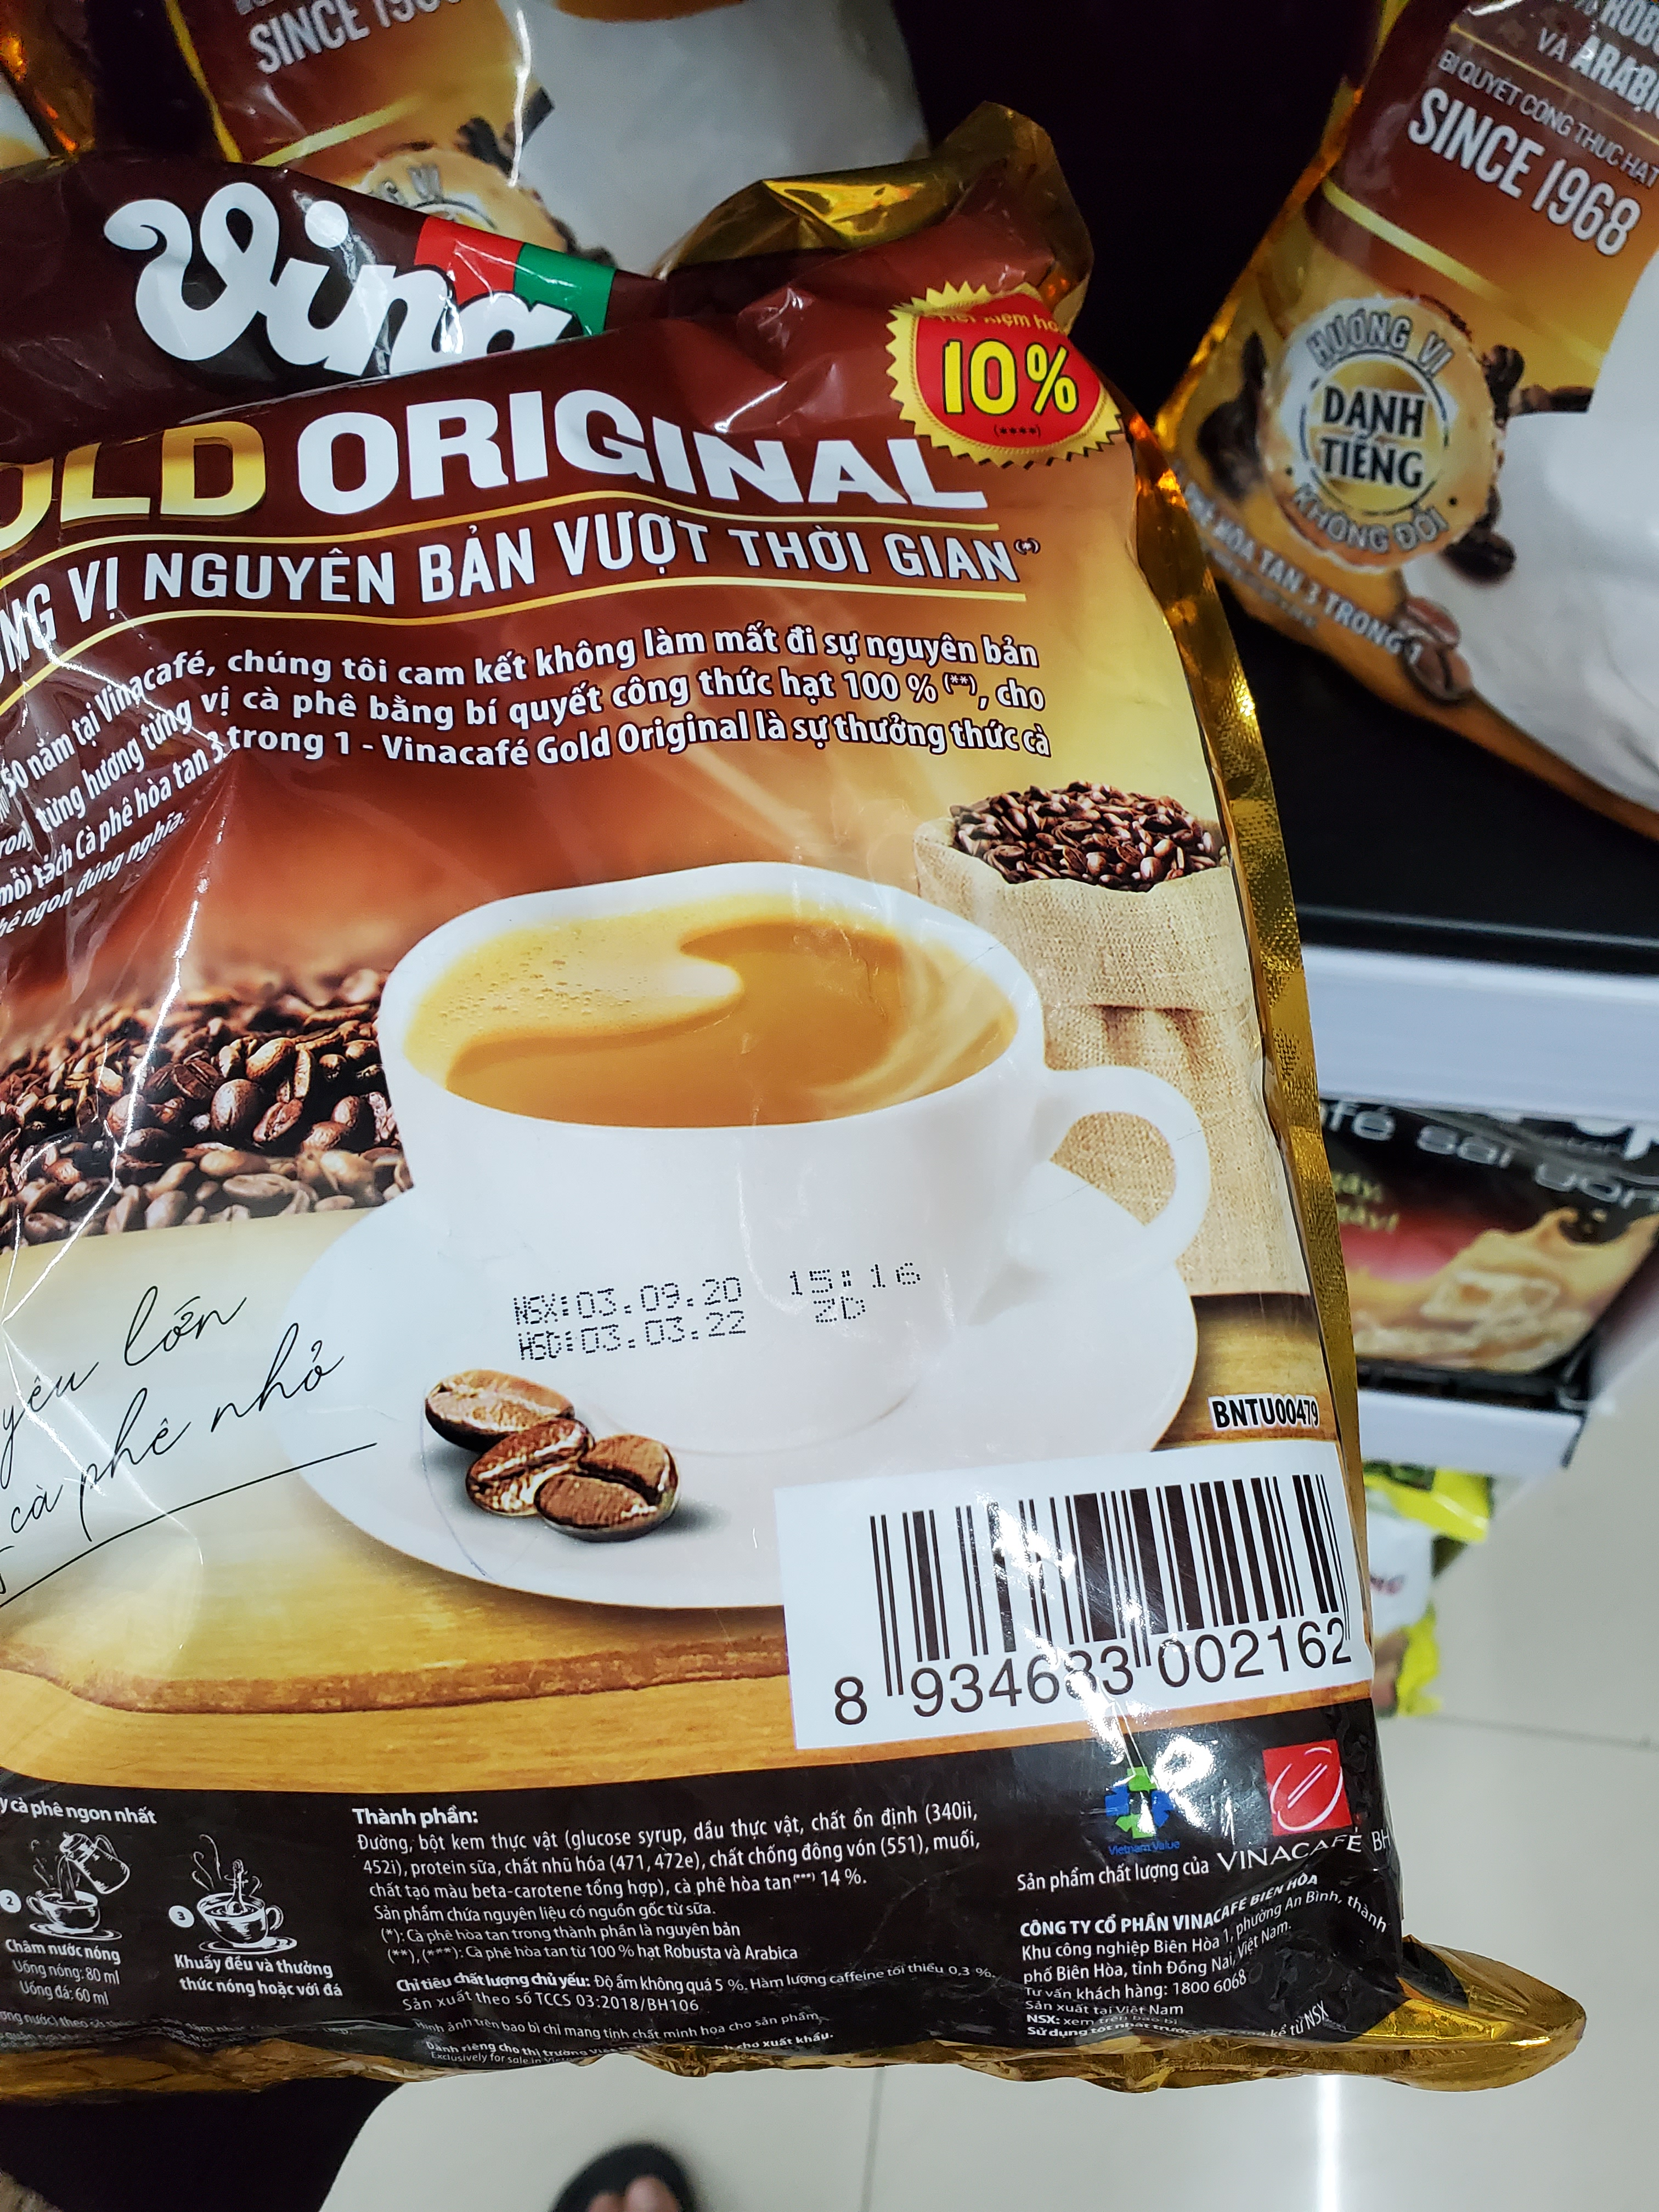barcode: (746, 1465, 1417, 1764)
